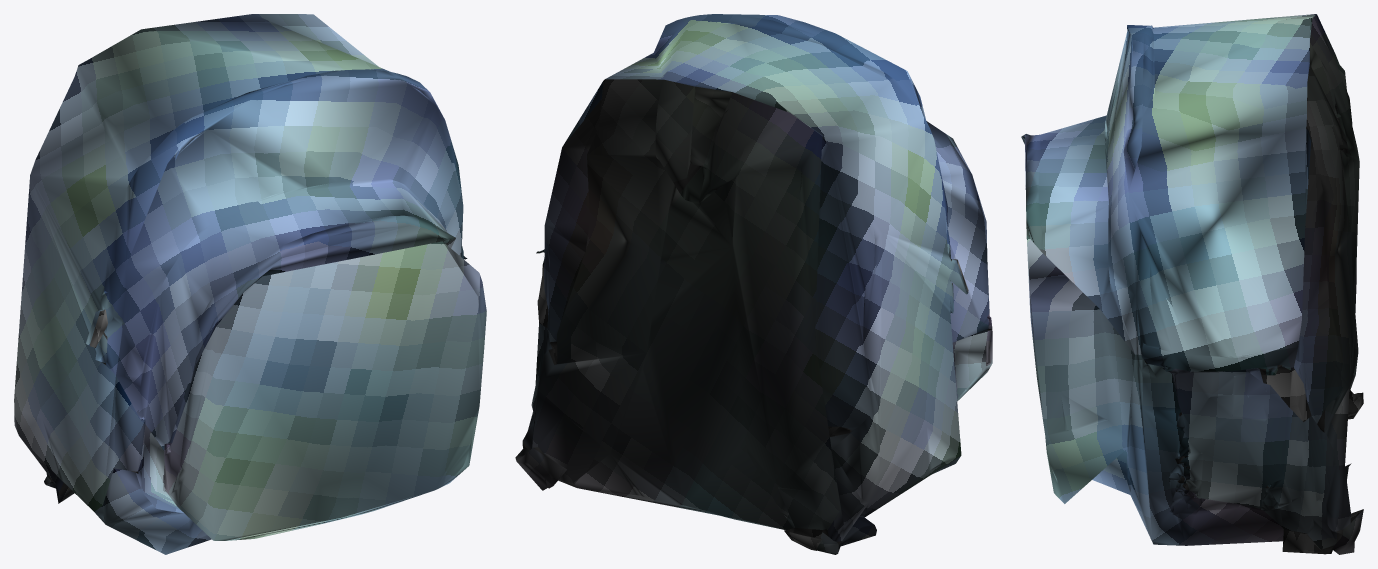
Rendered from Olive_Kids_Dinosaur_Land_Pack_n_Snack-low.glb.
3 views of the same model, side by side, from view 1: azimuth 30°, elevation 25°; view 2: azimuth 150°, elevation 25°; view 3: azimuth 270°, elevation 25° (orthographic). The views are drawn at different scales.
Visible parts, largest first — view 1: Olive_Kids_Dinosaur_Land_Pack_n_Snack; view 2: Olive_Kids_Dinosaur_Land_Pack_n_Snack; view 3: Olive_Kids_Dinosaur_Land_Pack_n_Snack.
Boxes of the visible parts, left/top/right/bottom form: Olive_Kids_Dinosaur_Land_Pack_n_Snack: left=14, top=14, right=486, bottom=554; Olive_Kids_Dinosaur_Land_Pack_n_Snack: left=515, top=14, right=992, bottom=554; Olive_Kids_Dinosaur_Land_Pack_n_Snack: left=1021, top=14, right=1363, bottom=554.
Bounding box in the file's own units: 0.2842 × 0.312 × 0.2209.
1 material, 1 textured.
